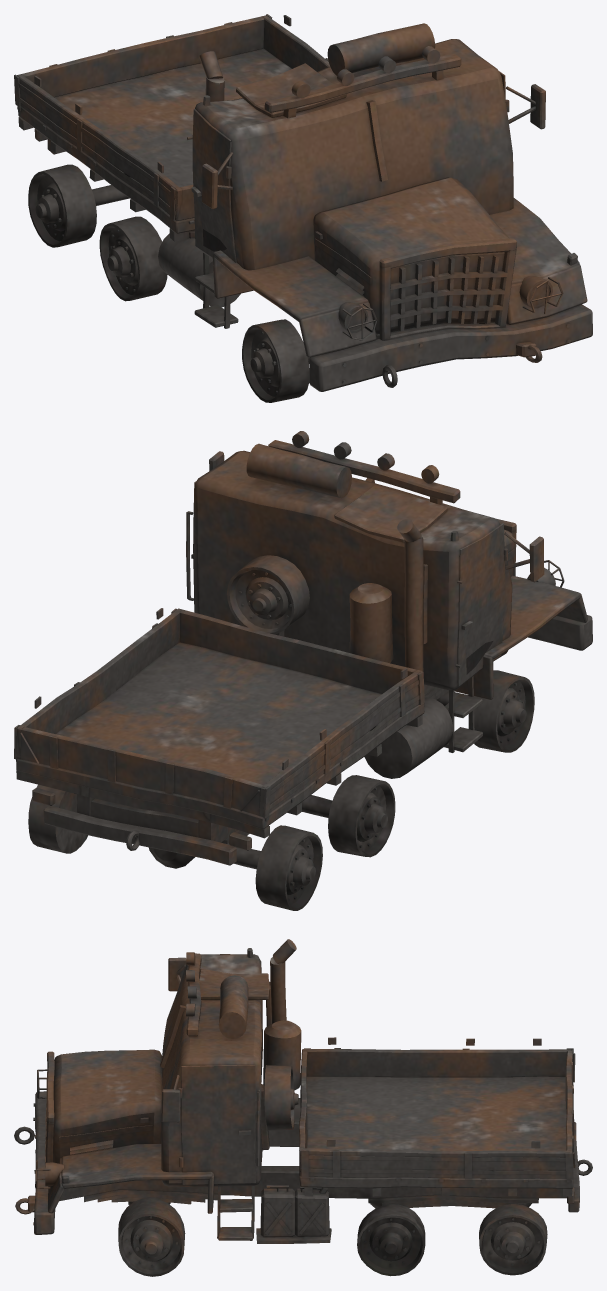
File: Wreck_Truck.fbx
The picture shows the model from 3 angles, top to bottom: view 1: azimuth 30°, elevation 25°; view 2: azimuth 150°, elevation 25°; view 3: azimuth 270°, elevation 25°; orthographic projection. The views are drawn at different scales.
Visible parts, largest first — view 1: Wreck_Truck_Mesh; view 2: Wreck_Truck_Mesh; view 3: Wreck_Truck_Mesh.
Part boxes in pixels (x1,y1,x2,y2): Wreck_Truck_Mesh: [14, 14, 592, 402]; Wreck_Truck_Mesh: [14, 431, 592, 910]; Wreck_Truck_Mesh: [14, 939, 592, 1276].
Bounding box in the file's own units: 2.3 × 1.93 × 4.1.
